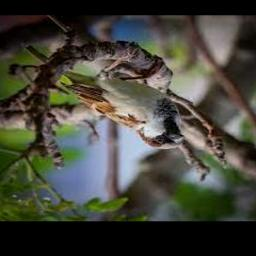Sparrow: (61, 52, 185, 150)
